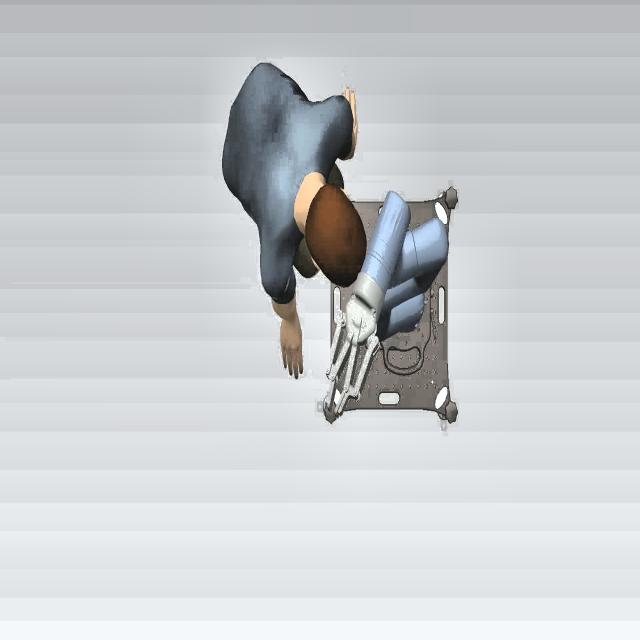robot: (318, 182, 460, 429)
